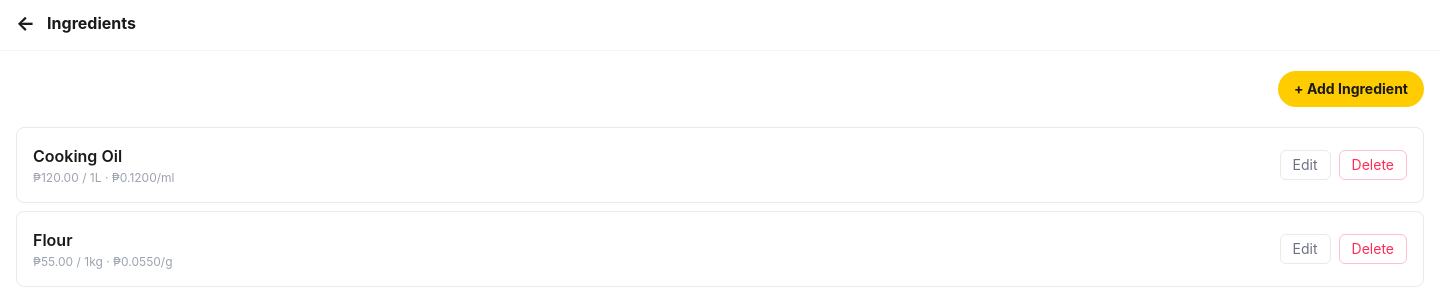
Ingredients › removes ingredient from list when Delete clicked
This screenshot has width=1440, height=304.
Check: the text "Cooking Oil" is shown, box [33,146,122,166]
Step 1. Click the button "Delete" in the row of "Cooking Oil" → (1373, 165), box [1339,150,1407,180]
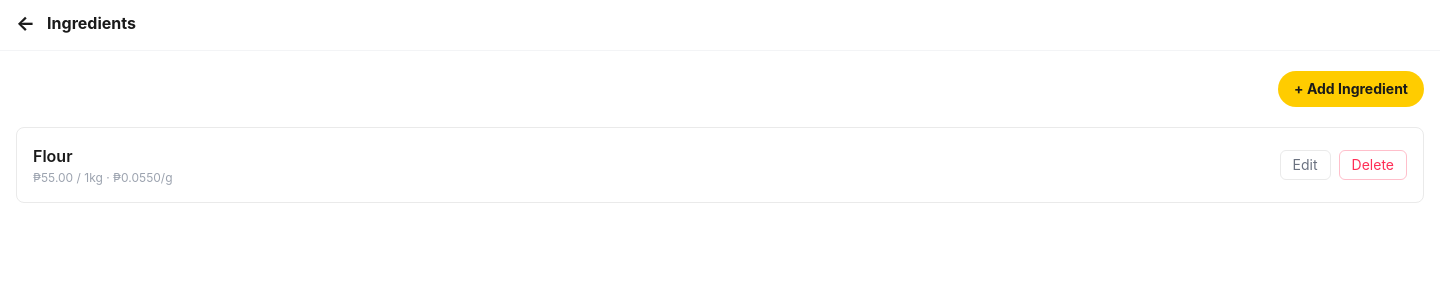
Check: the text "Cooking Oil" is gone
